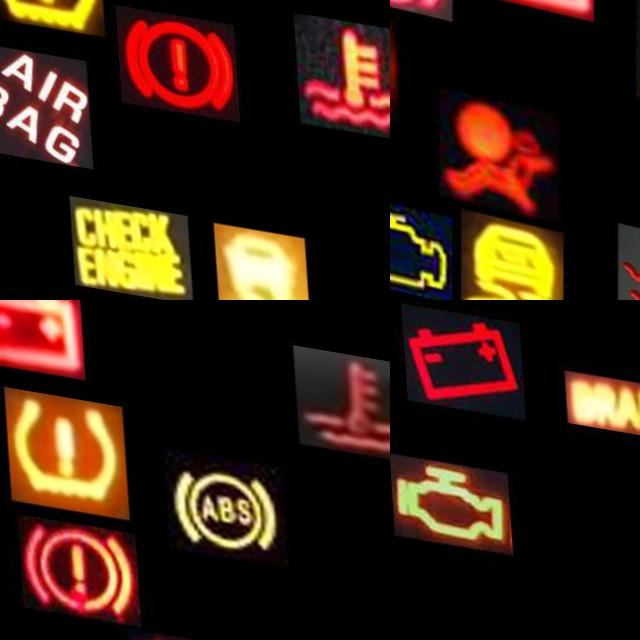Engine cooling system: (290, 0, 390, 121), (292, 331, 390, 446), (603, 205, 640, 300)
